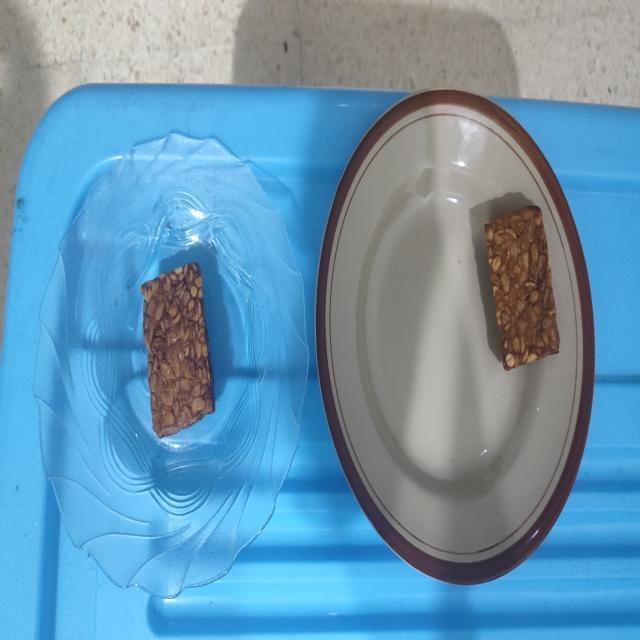tempe_goreng: (140, 263, 213, 438), (485, 207, 559, 370)
